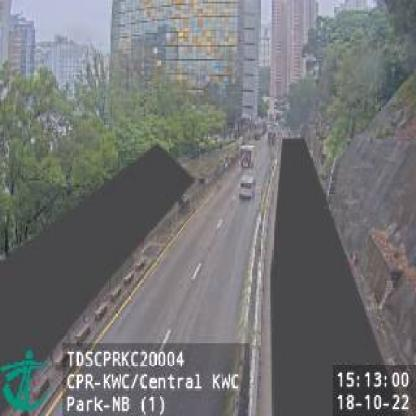Car: (238, 173, 256, 200)
Truck: (241, 144, 257, 169)
